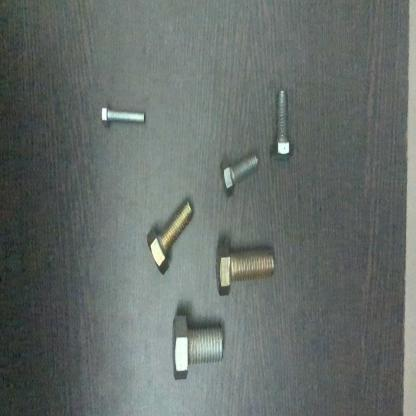Bolts: (141, 191, 197, 285), (162, 315, 236, 385), (216, 241, 280, 301), (266, 87, 300, 164), (216, 144, 260, 203), (96, 101, 152, 144)
